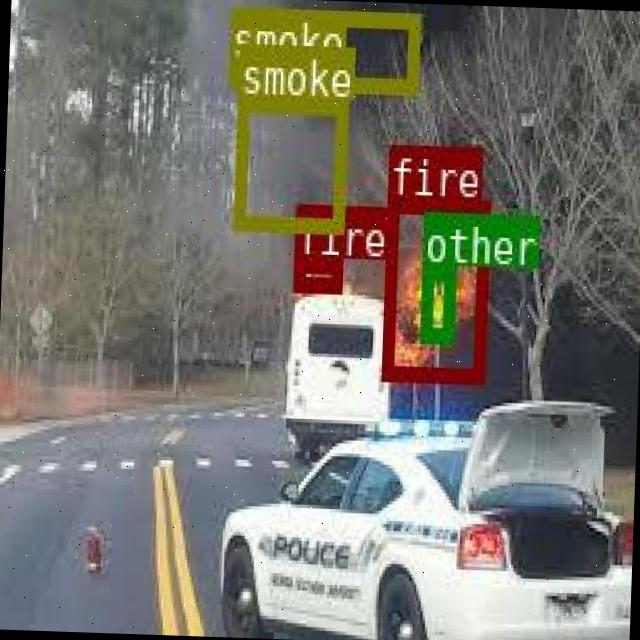fire: (381, 193, 488, 380), (292, 254, 340, 290)
smoke: (226, 5, 418, 91), (231, 93, 345, 229)
